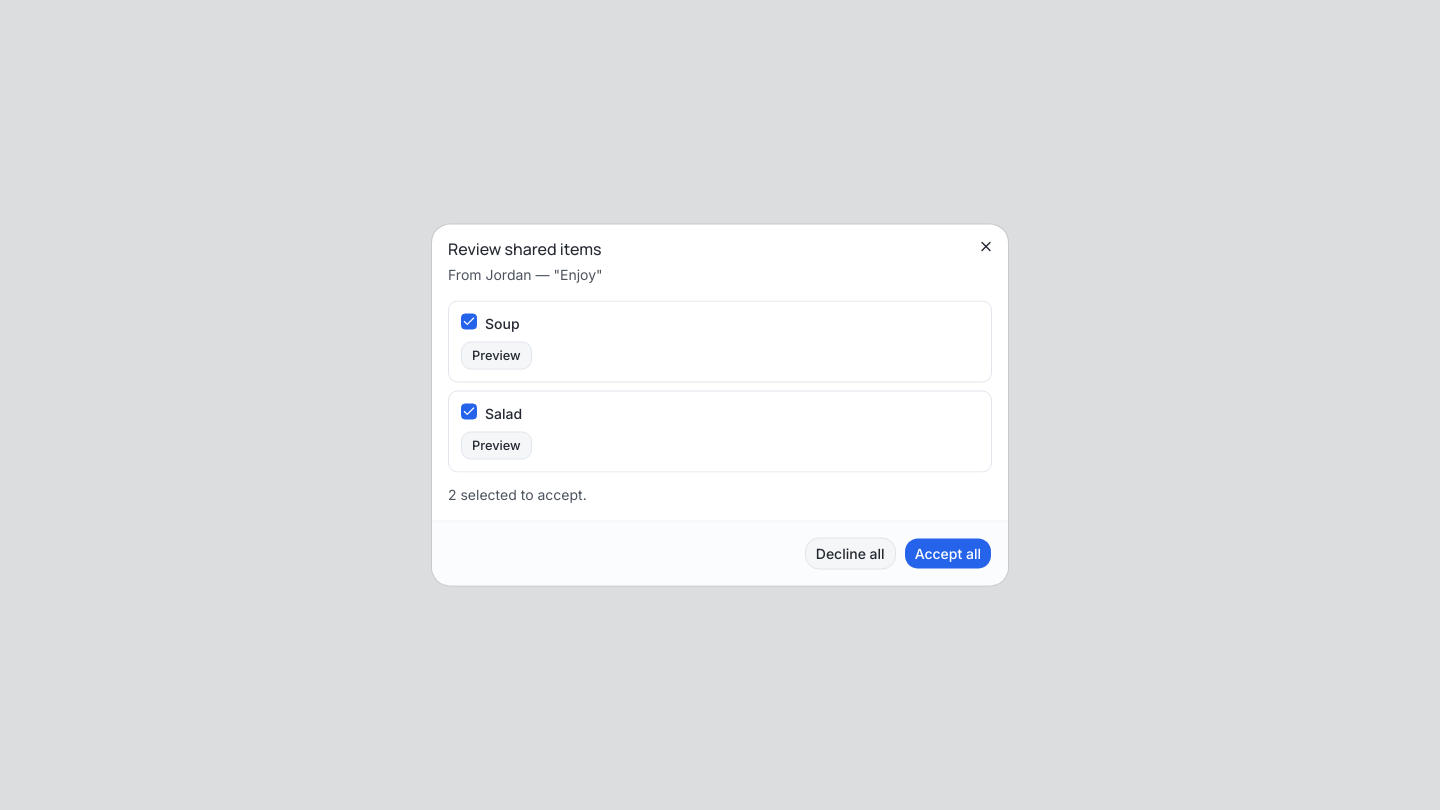
Test: DirectShareCollectionReviewDialog › subset selection switches to explicit decline-rest wording, and accepts/declines each item individually with live progress
Expected: the text "Soup" is shown, x1=485 y1=314 x2=520 y2=334
Step 1. Click the checkbox named "Salad" → [469, 412], box x1=461 y1=404 x2=477 y2=420
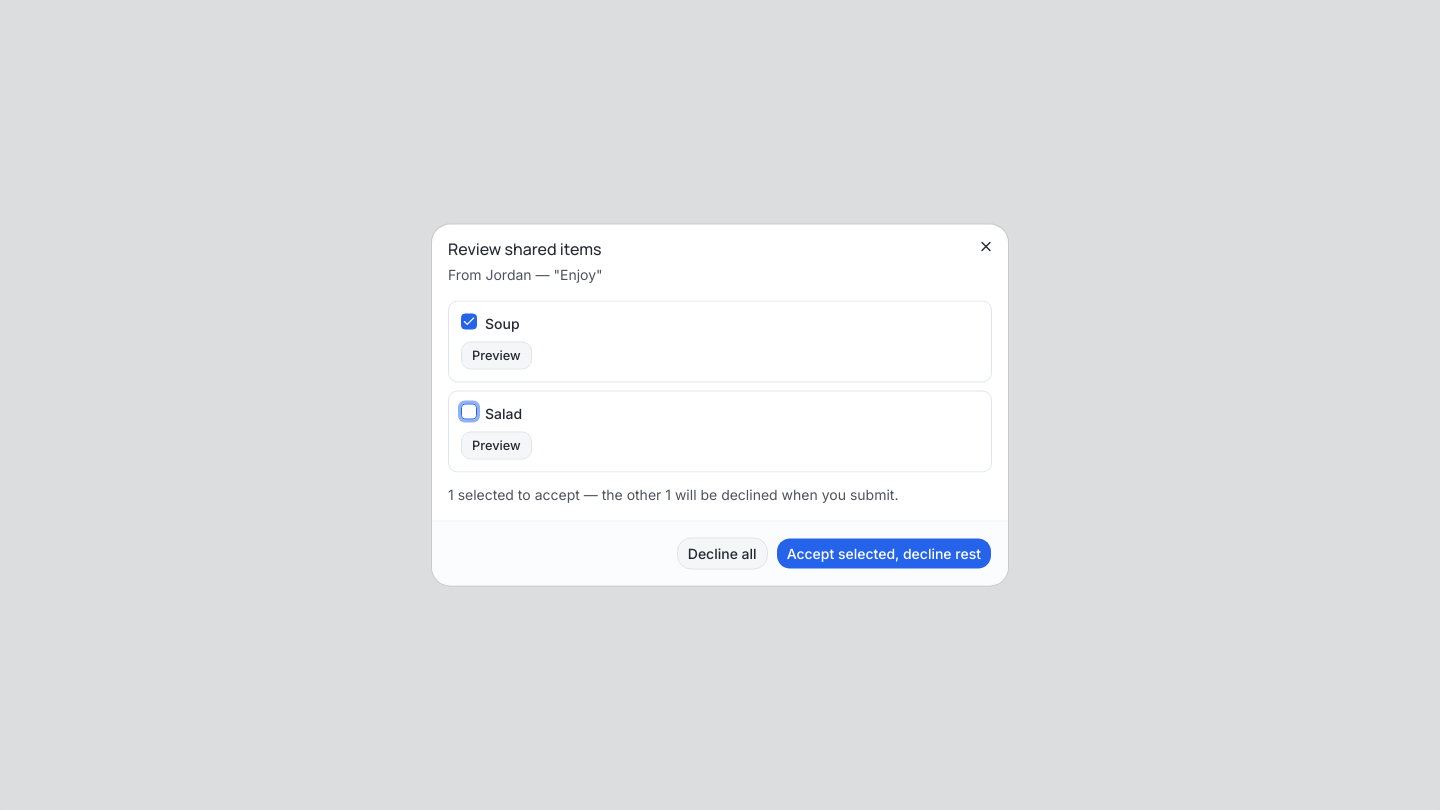
Expected: the text "the other 1 will be declined when you submit" is shown, x1=580 y1=486 x2=898 y2=502
Expected: the button "Accept selected, decline rest" is shown
Step 2. Click the button "Accept selected, decline rest" → [884, 554], box x1=776 y1=538 x2=992 y2=570
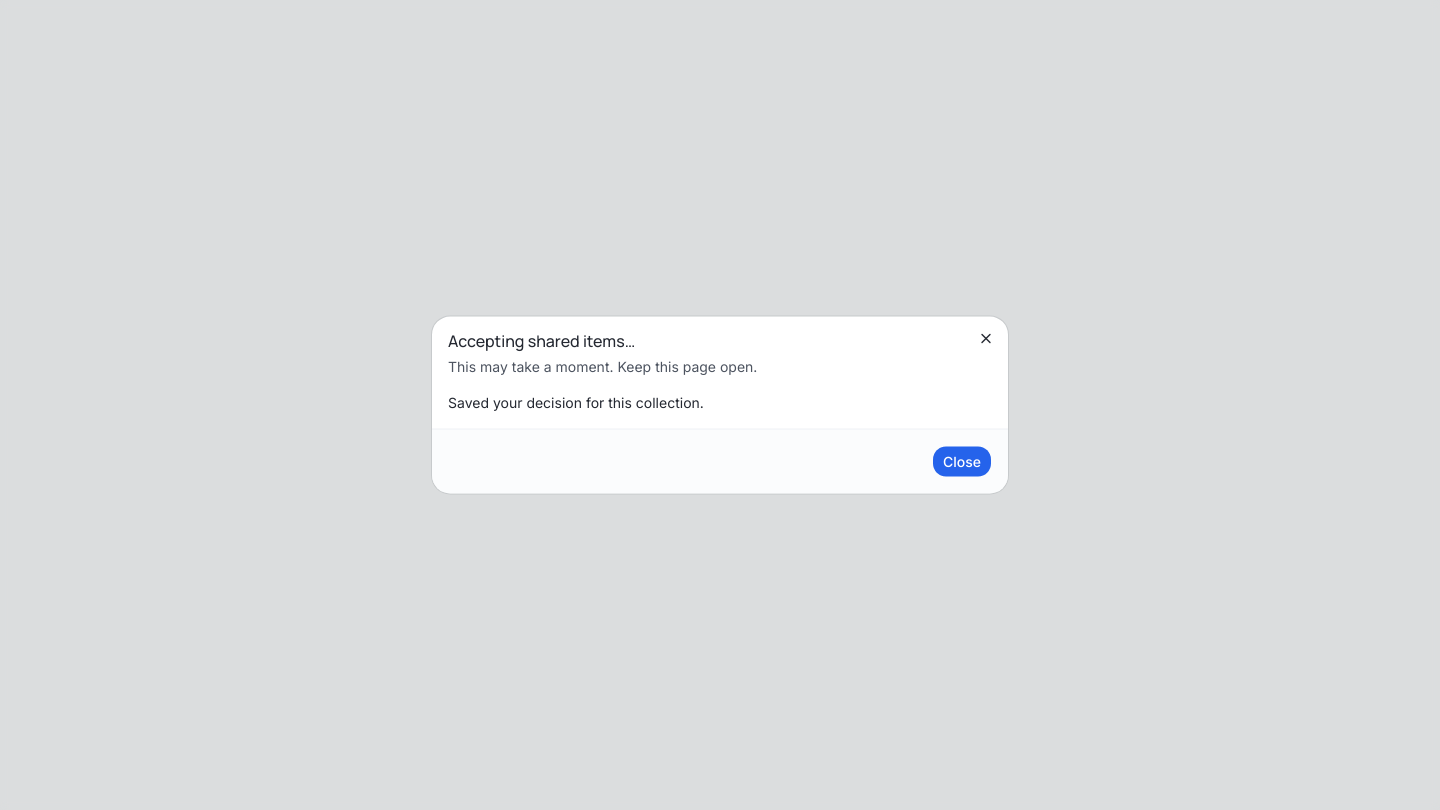
Expected: the text "Saved your decision for this collection." is shown, x1=448 y1=394 x2=704 y2=410
